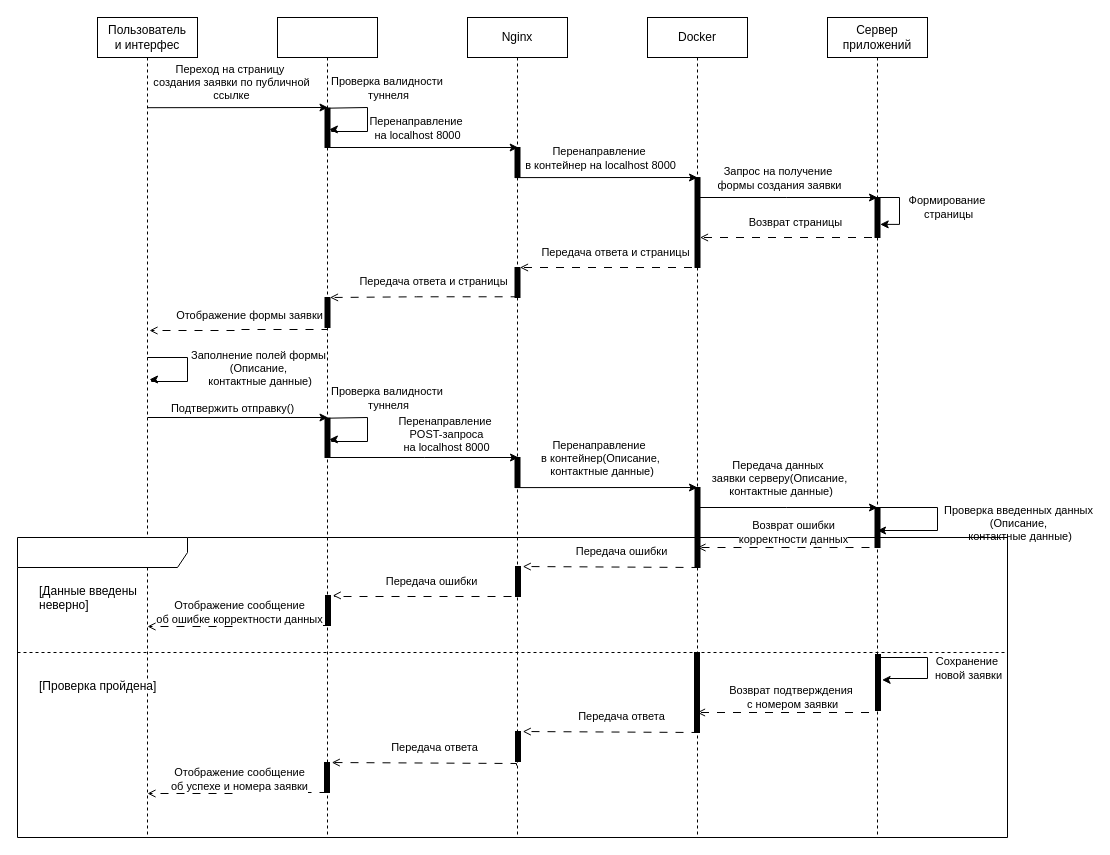
Image size: 1110x855. Some labels were removed from this diagram. The shapes that lost their labels are listed below. From the top down, each one's centre as x and y in pixels, then its label:
(x=327, y=427): Ngrok
(x=512, y=687): Alt
